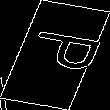P_E: (10, 31, 100, 79)
